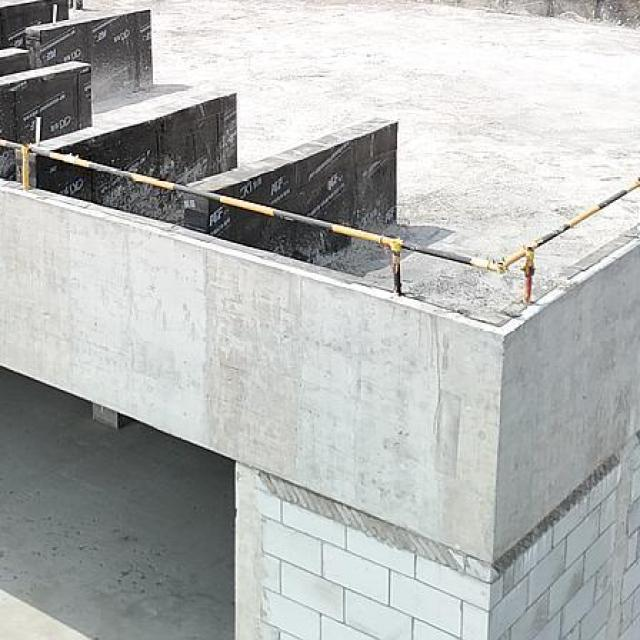edge_guardrail: (0, 136, 640, 308)
